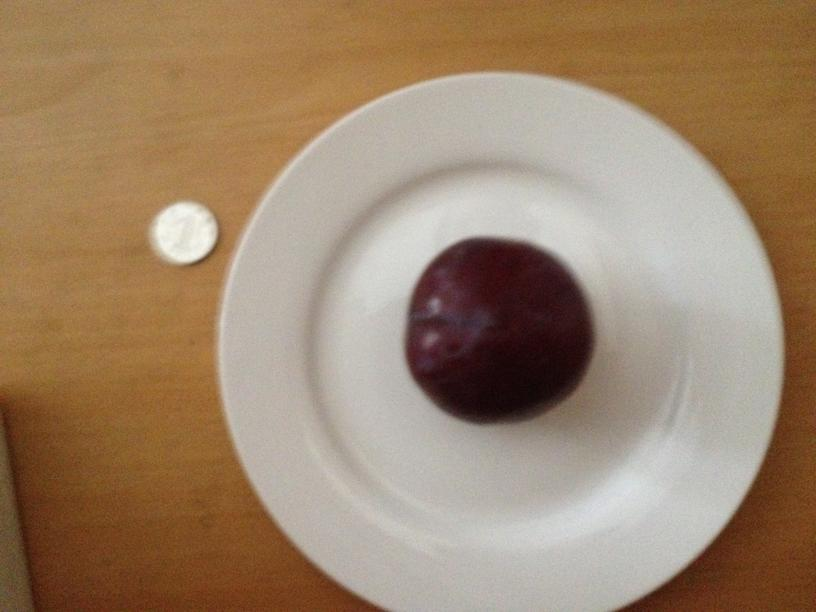coin: (143, 201, 217, 263)
plum: (401, 237, 595, 422)
